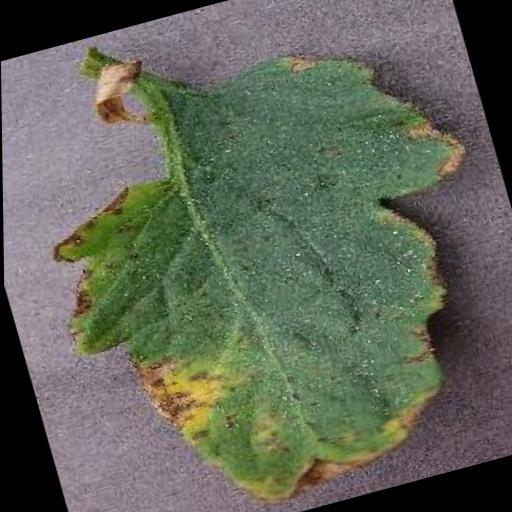Bacterial Spot: (3, 1, 512, 512)
